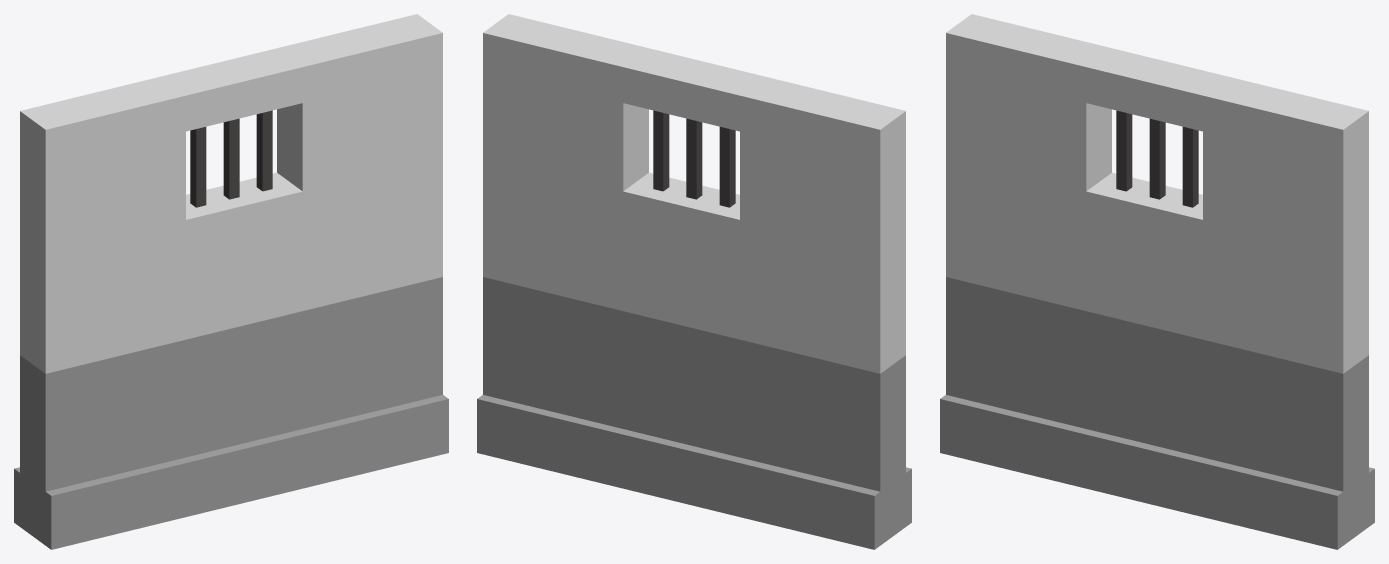
Rendered from wallroad.fbx.
The picture shows the model from 3 angles, left to right: view 1: azimuth 30°, elevation 25°; view 2: azimuth 150°, elevation 25°; view 3: azimuth 330°, elevation 25°; orthographic projection.
Parts seen in each view (by area): view 1: wallroad; view 2: wallroad; view 3: wallroad.
Part boxes in pixels (x1,y1,x2,y2): wallroad: (14, 14, 448, 549); wallroad: (477, 14, 911, 549); wallroad: (940, 14, 1374, 549).
Size of the model in its own units: 160 by 160 by 26.
